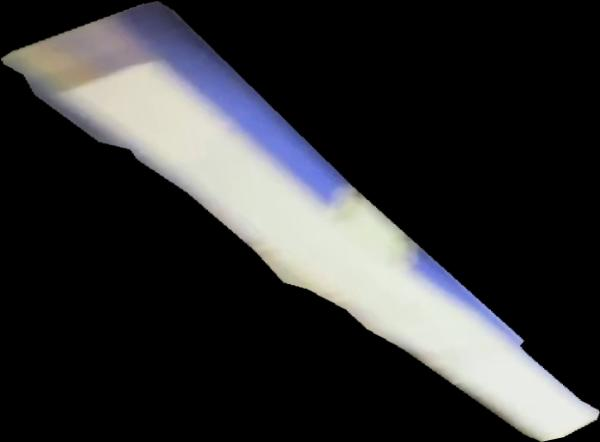backward: (1, 1, 600, 442)
